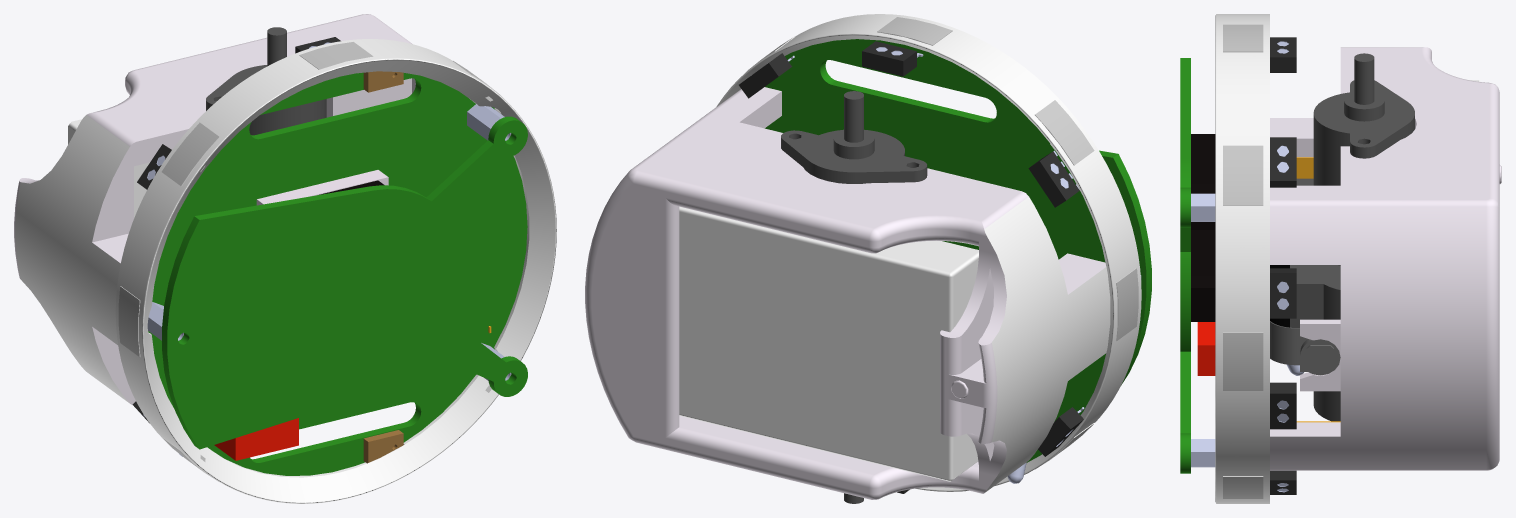
Rendered from epuck_base.obj.
The picture shows the model from 3 angles, left to right: view 1: azimuth 30°, elevation 25°; view 2: azimuth 150°, elevation 25°; view 3: azimuth 270°, elevation 25°; orthographic projection. The views are drawn at different scales.
Visible parts, largest first — view 1: mesh 8 epuck_base-1-solid22 face, mesh 13 epuck_base-1-solid9 face, mesh 24 epuck_base-1-solid19 face, mesh 23 CirPattern1 face, mesh 10 epuck_base-1-solid29 face, mesh 12 epuck_base-1-solid33 face, mesh 1 Base, mesh 9 epuck_base-1-solid11 face, mesh 15 epuck_base-1-solid3 face, mesh 11 epuck_base-1-solid24 face, mesh 14 epuck_base-1-solid26 face, mesh 16 epuck_base-1-solid34 face (+1 smaller); view 2: mesh 13 epuck_base-1-solid9 face, mesh 23 CirPattern1 face, mesh 8 epuck_base-1-solid22 face, mesh 24 epuck_base-1-solid19 face, mesh 10 epuck_base-1-solid29 face, mesh 4 epuck_base-1-solid17 face, mesh 15 epuck_base-1-solid3 face, mesh 14 epuck_base-1-solid26 face, mesh 16 epuck_base-1-solid34 face, mesh 1 Base; view 3: mesh 23 CirPattern1 face, mesh 13 epuck_base-1-solid9 face, mesh 10 epuck_base-1-solid29 face, mesh 4 epuck_base-1-solid17 face, mesh 8 epuck_base-1-solid22 face, mesh 5 epuck_base-1-solid20 face, mesh 17 epuck_base-1-solid15 face, mesh 22 CirPattern1, mesh 18 epuck_base-1-solid5 face, mesh 1 Base, mesh 16 epuck_base-1-solid34 face, mesh 12 epuck_base-1-solid33 face (+2 smaller).
Part boxes in pixels (x1,y1,x2,y2): mesh 8 epuck_base-1-solid22 face: [148, 72, 527, 475]; mesh 13 epuck_base-1-solid9 face: [68, 39, 556, 503]; mesh 24 epuck_base-1-solid19 face: [15, 115, 129, 402]; mesh 23 CirPattern1 face: [14, 14, 415, 405]; mesh 10 epuck_base-1-solid29 face: [206, 27, 326, 135]; mesh 12 epuck_base-1-solid33 face: [214, 418, 298, 460]; mesh 1 Base: [143, 42, 511, 456]; mesh 9 epuck_base-1-solid11 face: [363, 71, 403, 463]; mesh 15 epuck_base-1-solid3 face: [161, 122, 218, 185]; mesh 11 epuck_base-1-solid24 face: [256, 170, 388, 205]; mesh 14 epuck_base-1-solid26 face: [118, 286, 139, 356]; mesh 16 epuck_base-1-solid34 face: [299, 42, 372, 69]; mesh 13 epuck_base-1-solid9 face: [679, 14, 1141, 491]; mesh 23 CirPattern1 face: [585, 87, 1106, 499]; mesh 8 epuck_base-1-solid22 face: [765, 39, 1151, 462]; mesh 24 epuck_base-1-solid19 face: [984, 197, 1110, 492]; mesh 10 epuck_base-1-solid29 face: [781, 91, 927, 503]; mesh 4 epuck_base-1-solid17 face: [739, 41, 1083, 493]; mesh 15 epuck_base-1-solid3 face: [1035, 100, 1094, 165]; mesh 14 epuck_base-1-solid26 face: [1117, 268, 1138, 340]; mesh 16 epuck_base-1-solid34 face: [877, 17, 952, 45]; mesh 1 Base: [787, 47, 1141, 483]; mesh 23 CirPattern1 face: [1270, 47, 1501, 470]; mesh 13 epuck_base-1-solid9 face: [1215, 14, 1480, 503]; mesh 10 epuck_base-1-solid29 face: [1290, 53, 1414, 421]; mesh 4 epuck_base-1-solid17 face: [1270, 37, 1296, 494]; mesh 8 epuck_base-1-solid22 face: [1180, 58, 1190, 473]; mesh 5 epuck_base-1-solid20 face: [1191, 134, 1215, 321]; mesh 17 epuck_base-1-solid15 face: [1223, 145, 1263, 205]; mesh 22 CirPattern1: [1270, 321, 1340, 375]; mesh 18 epuck_base-1-solid5 face: [1223, 333, 1263, 390]; mesh 1 Base: [1191, 41, 1303, 492]; mesh 16 epuck_base-1-solid34 face: [1223, 24, 1263, 51]; mesh 12 epuck_base-1-solid33 face: [1197, 322, 1215, 375].
Size of the model in its own units: 0.0725 by 0.0725 by 0.0475.
